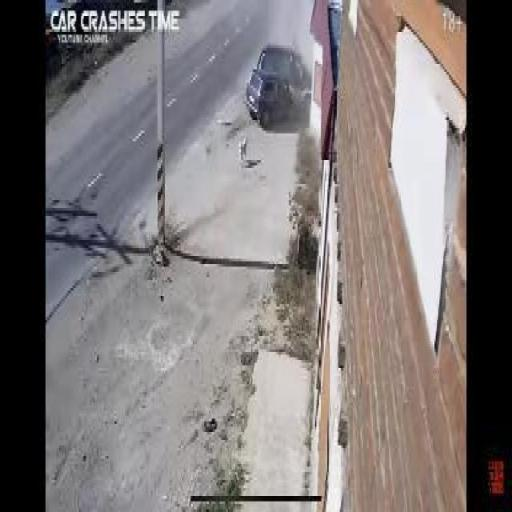小汽车撞小汽车: (244, 42, 310, 122)
